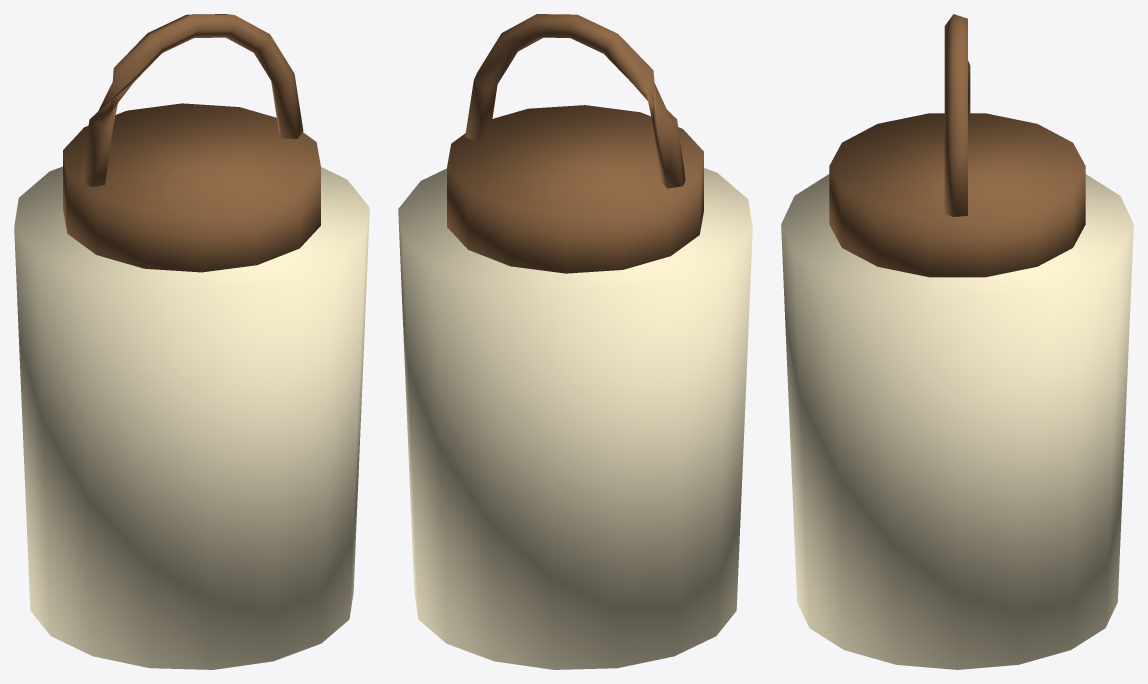
Rendered from festival-part-lantern.glb.
The picture shows the model from 3 angles, left to right: view 1: azimuth 30°, elevation 25°; view 2: azimuth 150°, elevation 25°; view 3: azimuth 270°, elevation 25°; orthographic projection.
Visible parts, largest first — view 1: part; view 2: part; view 3: part.
Boxes of the visible parts, x1,y1,x2,y2 form: part: [14, 14, 369, 669]; part: [398, 14, 752, 669]; part: [781, 14, 1133, 669].
Bounding box in the file's own units: 0.275 × 0.497 × 0.275.
